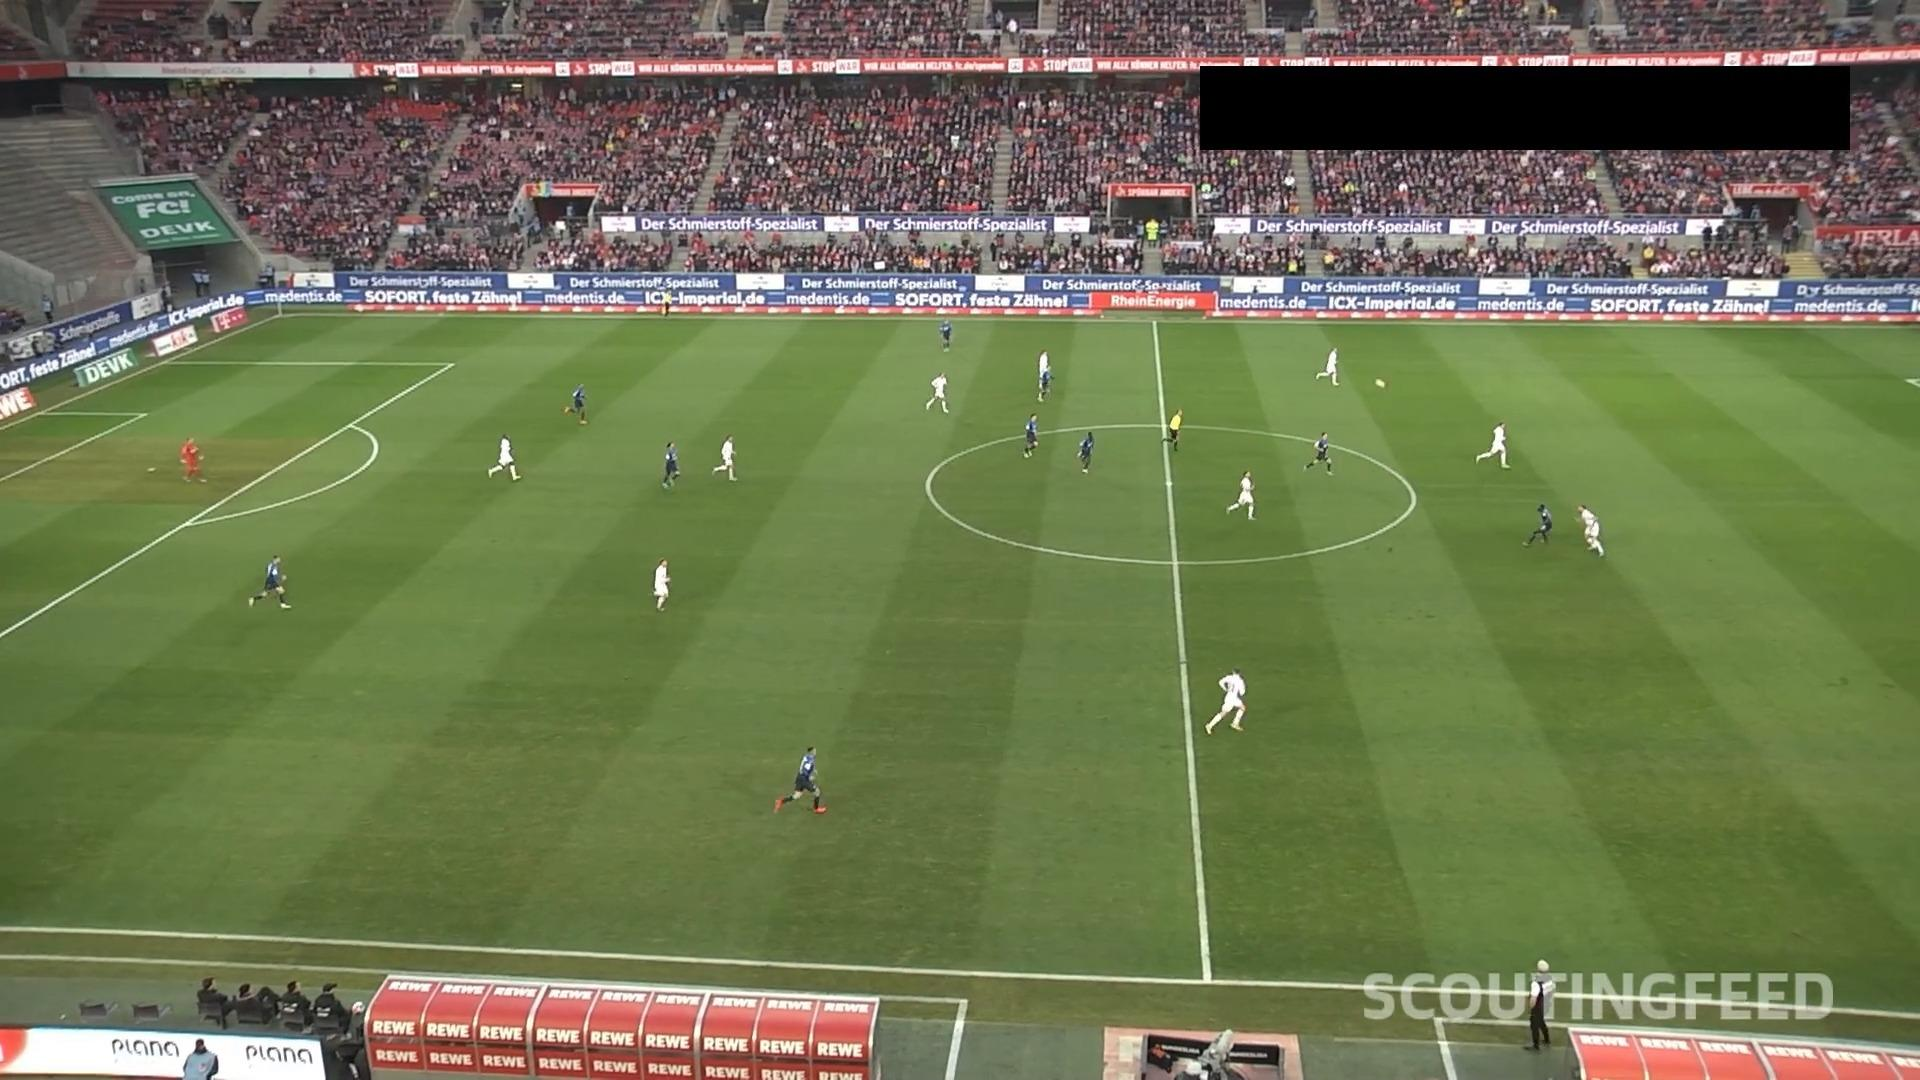ball: (1374, 377, 1387, 389)
